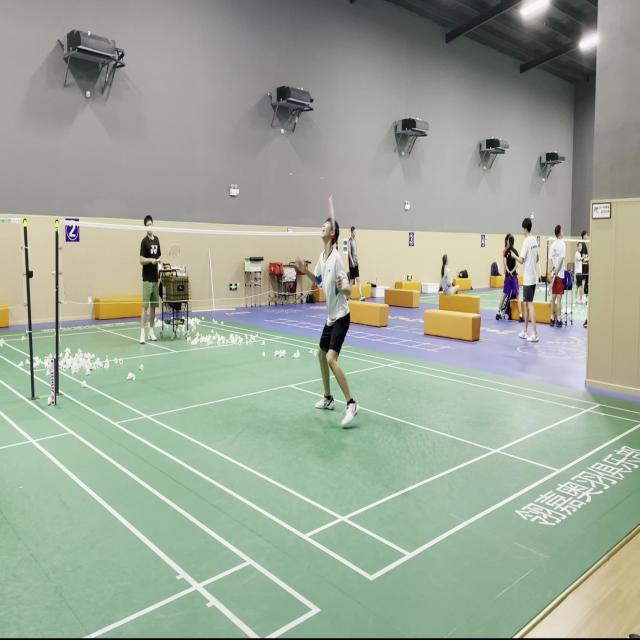shuttlecock: (88, 296, 93, 305)
